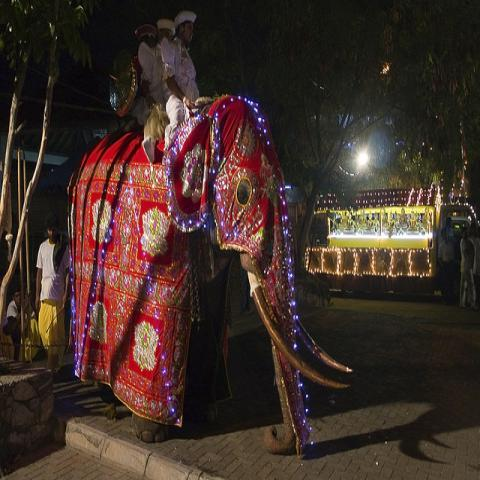truck: (306, 187, 478, 294)
